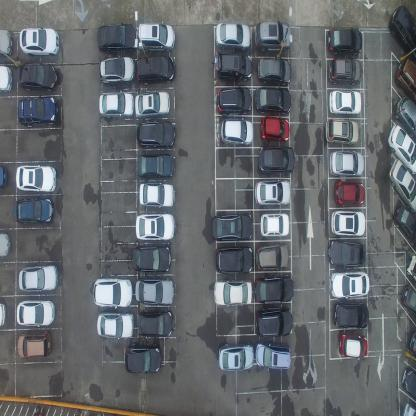car: (386, 123, 416, 176), (387, 4, 416, 58), (388, 158, 415, 214), (92, 276, 133, 308), (135, 210, 174, 242), (16, 62, 57, 92), (18, 96, 58, 126), (16, 163, 57, 192), (96, 23, 137, 52), (19, 27, 60, 56), (255, 304, 292, 336), (125, 342, 162, 374), (254, 84, 292, 115), (215, 51, 253, 82), (254, 275, 294, 304), (327, 238, 367, 267), (215, 244, 253, 274), (213, 276, 251, 306), (254, 21, 292, 51), (135, 278, 174, 307), (96, 311, 135, 340), (132, 243, 172, 271), (139, 21, 175, 52), (255, 340, 291, 371), (98, 56, 135, 86), (211, 213, 252, 240), (329, 270, 370, 297), (136, 56, 174, 85), (17, 298, 55, 327), (136, 119, 174, 147), (136, 309, 174, 337), (393, 203, 416, 249), (219, 342, 254, 372), (327, 56, 362, 86), (258, 145, 294, 174), (334, 300, 370, 329), (14, 198, 54, 224), (217, 85, 251, 115), (328, 26, 362, 56), (139, 180, 174, 209), (257, 55, 292, 84), (19, 265, 58, 291), (255, 179, 291, 207), (215, 20, 251, 48), (330, 209, 366, 237), (329, 148, 365, 176), (324, 117, 360, 145), (394, 58, 416, 103), (137, 152, 175, 178), (134, 90, 170, 117), (220, 118, 253, 147), (16, 332, 52, 358), (99, 91, 134, 117), (338, 330, 368, 360), (395, 94, 415, 139), (255, 242, 288, 269), (260, 115, 290, 144), (328, 89, 362, 114), (335, 179, 365, 205), (260, 213, 289, 237), (400, 282, 416, 320), (400, 364, 416, 401), (0, 28, 15, 58), (0, 62, 13, 95), (406, 254, 416, 287), (0, 231, 12, 257), (408, 329, 416, 360), (0, 163, 8, 191), (403, 400, 416, 416), (0, 299, 6, 330)
